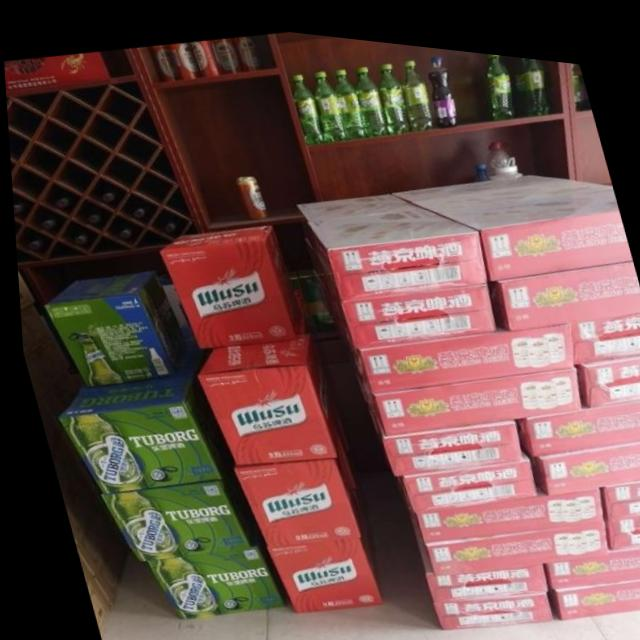box: (55, 341, 226, 493), (423, 168, 630, 269), (193, 326, 333, 460), (155, 219, 299, 344), (304, 198, 486, 295), (338, 311, 570, 384), (38, 267, 181, 385), (94, 456, 254, 560), (356, 354, 574, 426), (402, 506, 543, 594), (141, 532, 278, 617), (227, 451, 353, 542), (485, 247, 640, 320), (417, 508, 602, 568), (326, 273, 493, 339), (408, 475, 598, 533), (261, 525, 375, 609), (367, 404, 516, 465), (394, 440, 531, 502), (511, 385, 640, 444), (390, 161, 585, 197), (524, 425, 640, 484), (536, 532, 640, 576), (425, 581, 545, 618), (30, 369, 76, 459), (548, 563, 640, 608), (567, 297, 640, 352), (295, 183, 419, 215), (573, 340, 640, 394), (69, 498, 108, 573), (87, 523, 122, 605), (56, 472, 94, 544), (21, 341, 67, 398), (46, 445, 82, 500), (16, 305, 51, 360), (595, 466, 640, 508), (601, 503, 640, 536), (82, 577, 102, 637), (69, 549, 85, 593), (14, 271, 30, 313)
